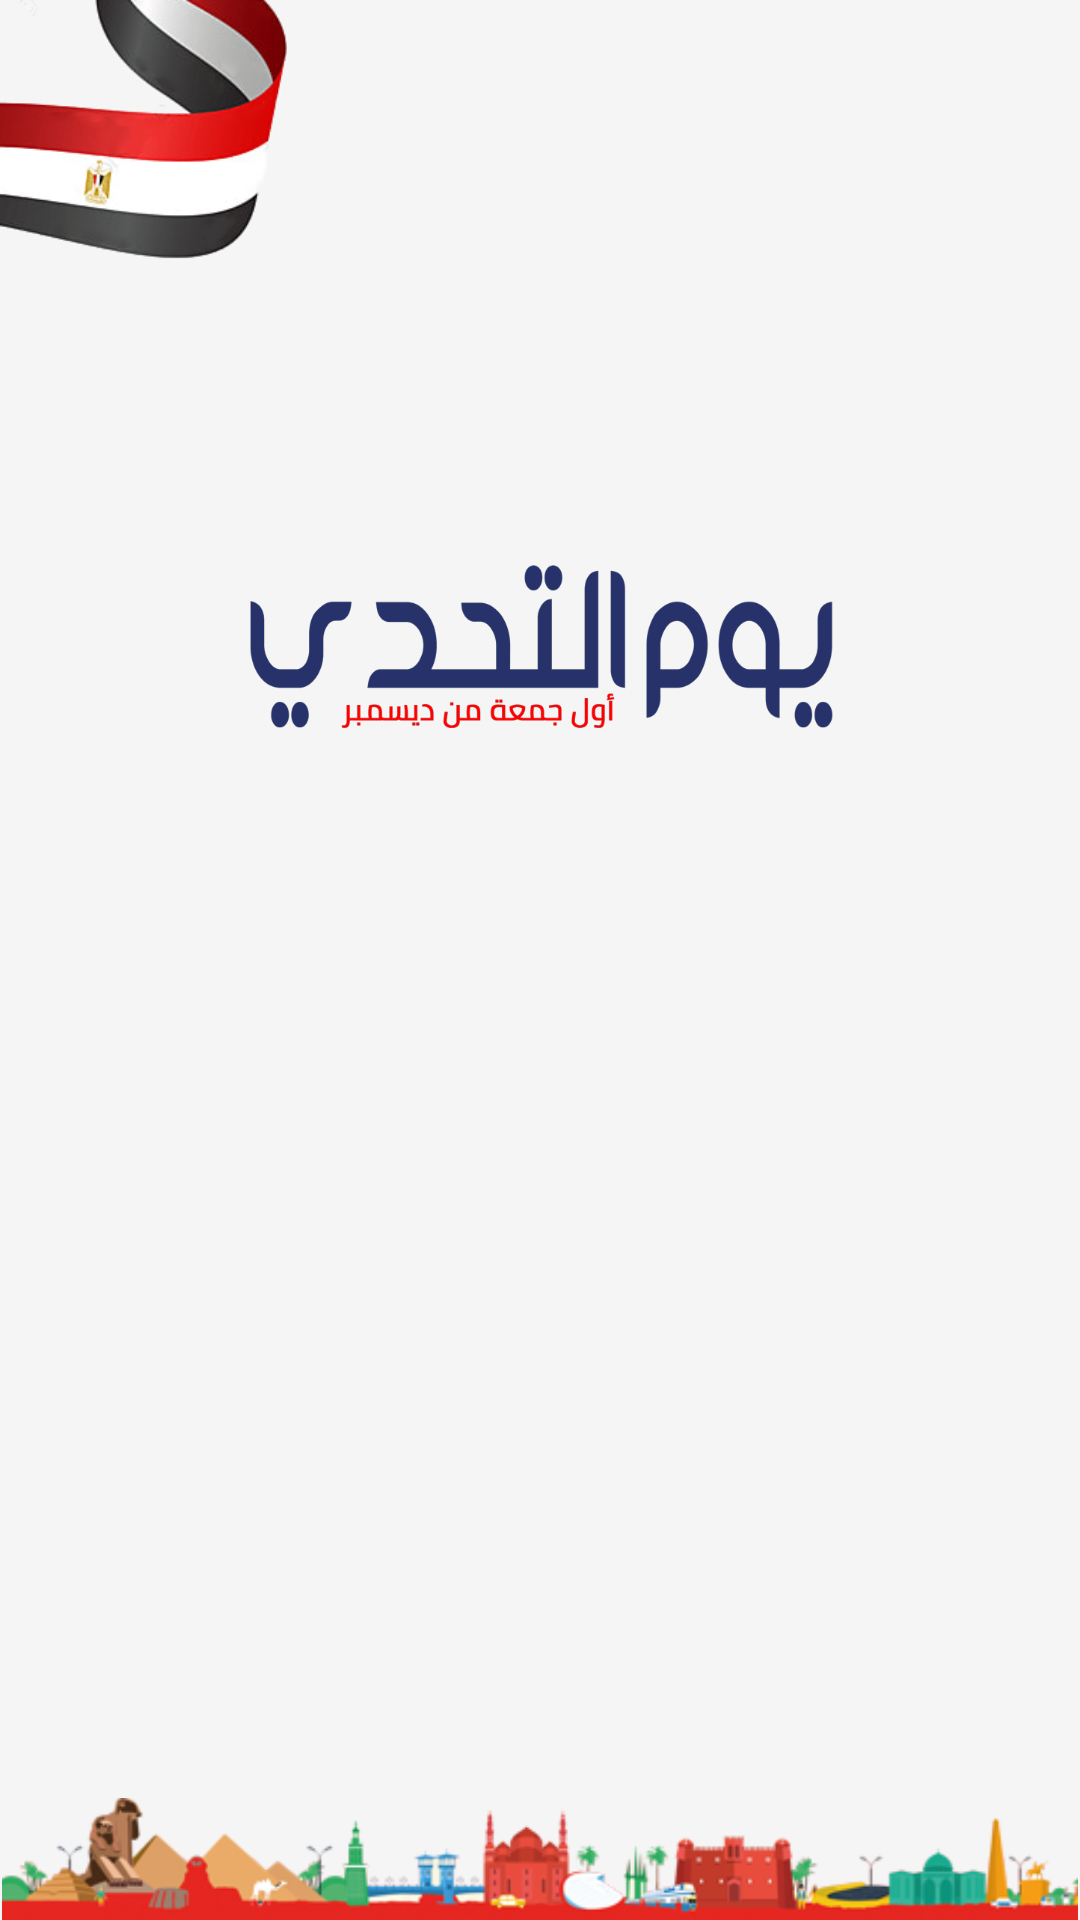

Point at icon controls on the screen. Image size 1080px×1920px, points as point (x, y).
egyptflag: point (143, 129)
